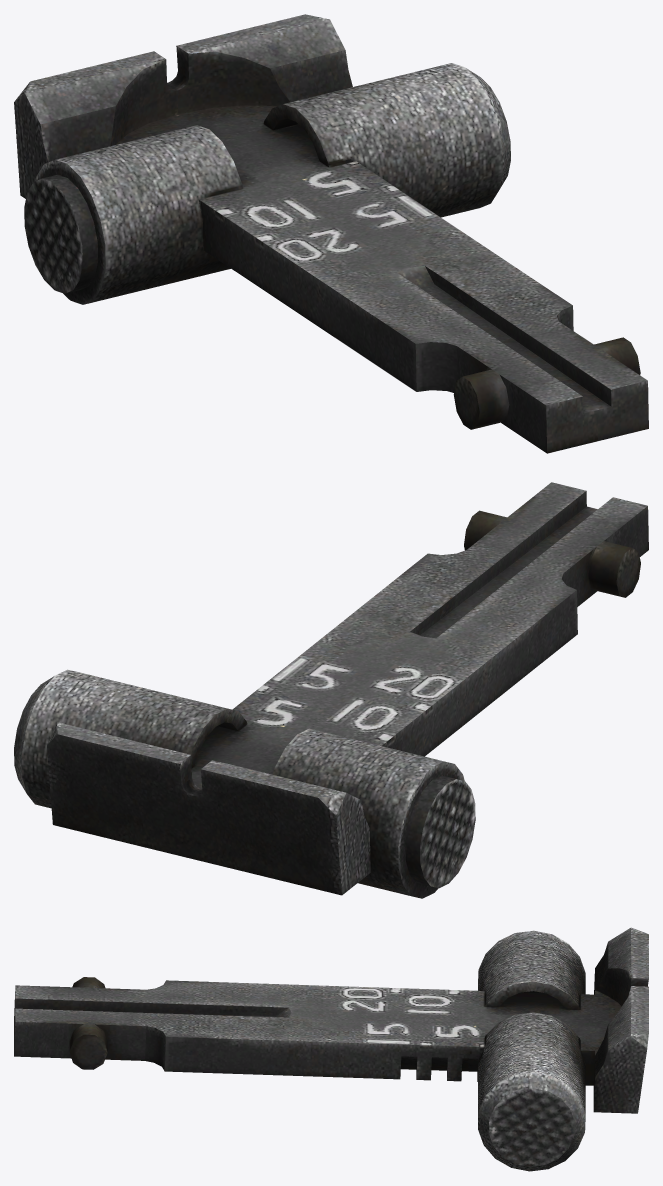
The model's file is sight_rear_pp-19-01_izhmash_vityaz_std (merge).fbx.
3 renders of one model, top to bottom at view 1: azimuth 30°, elevation 25°; view 2: azimuth 150°, elevation 25°; view 3: azimuth 270°, elevation 25°, orthographic. The views are drawn at different scales.
Visible parts, largest first — view 1: sight_rear_pp-19-01_izhmash_vityaz_std_LOD0; view 2: sight_rear_pp-19-01_izhmash_vityaz_std_LOD0; view 3: sight_rear_pp-19-01_izhmash_vityaz_std_LOD0.
Boxes of the visible parts, box(x1,y1,x2,y2) form: sight_rear_pp-19-01_izhmash_vityaz_std_LOD0: box(14, 14, 648, 453); sight_rear_pp-19-01_izhmash_vityaz_std_LOD0: box(14, 482, 648, 898); sight_rear_pp-19-01_izhmash_vityaz_std_LOD0: box(14, 927, 648, 1171).
Size of what is drawn, in the model's own units: 0.0303 by 0.0102 by 0.053.
